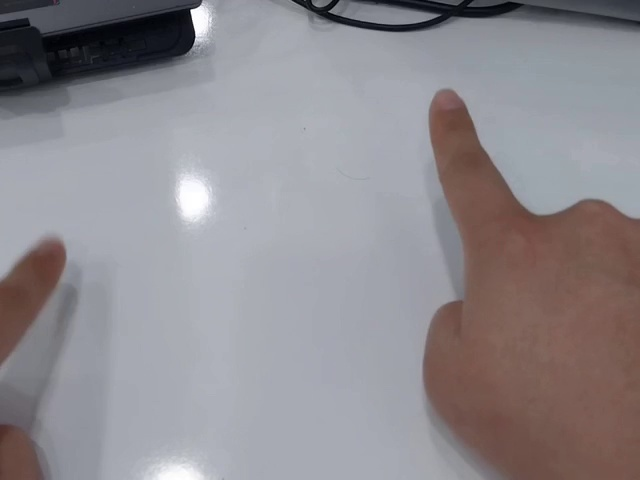fingers: (24, 236, 68, 299), (427, 87, 476, 134)
